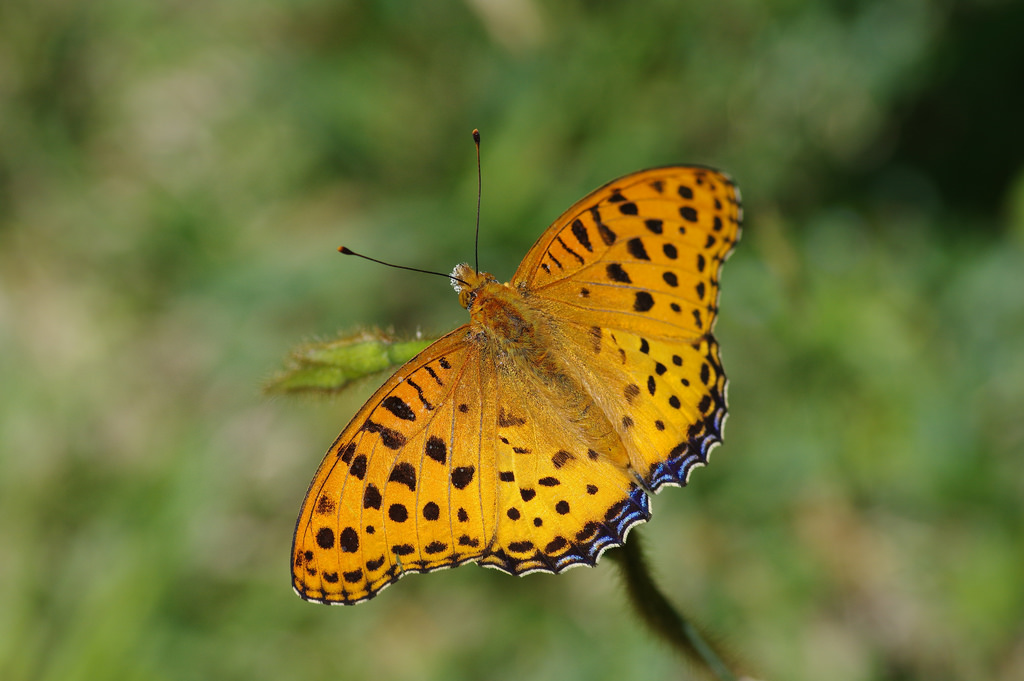Argyreus hyperbius: (275, 119, 748, 619)
butterfly: (277, 121, 750, 621)
